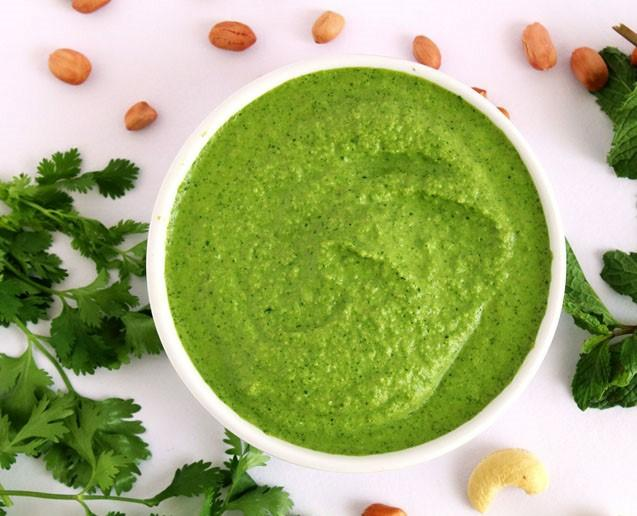GreenChutney: (164, 66, 551, 456)
